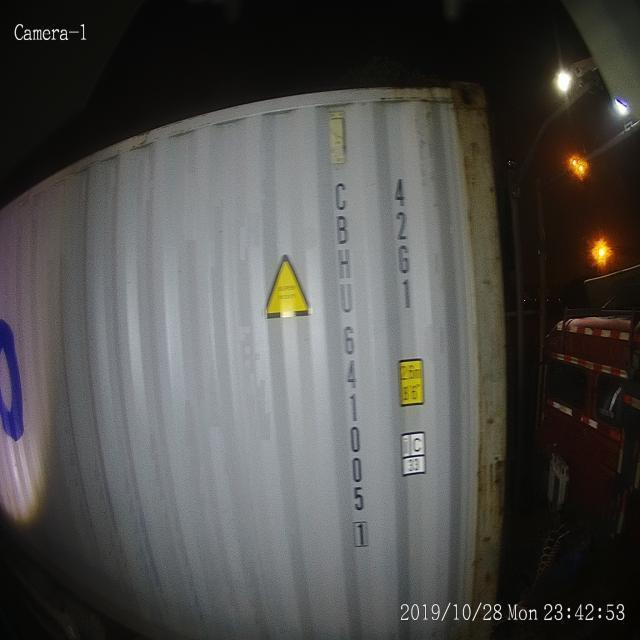ISO: (386, 163, 422, 321)
container_number: (325, 164, 373, 556)
